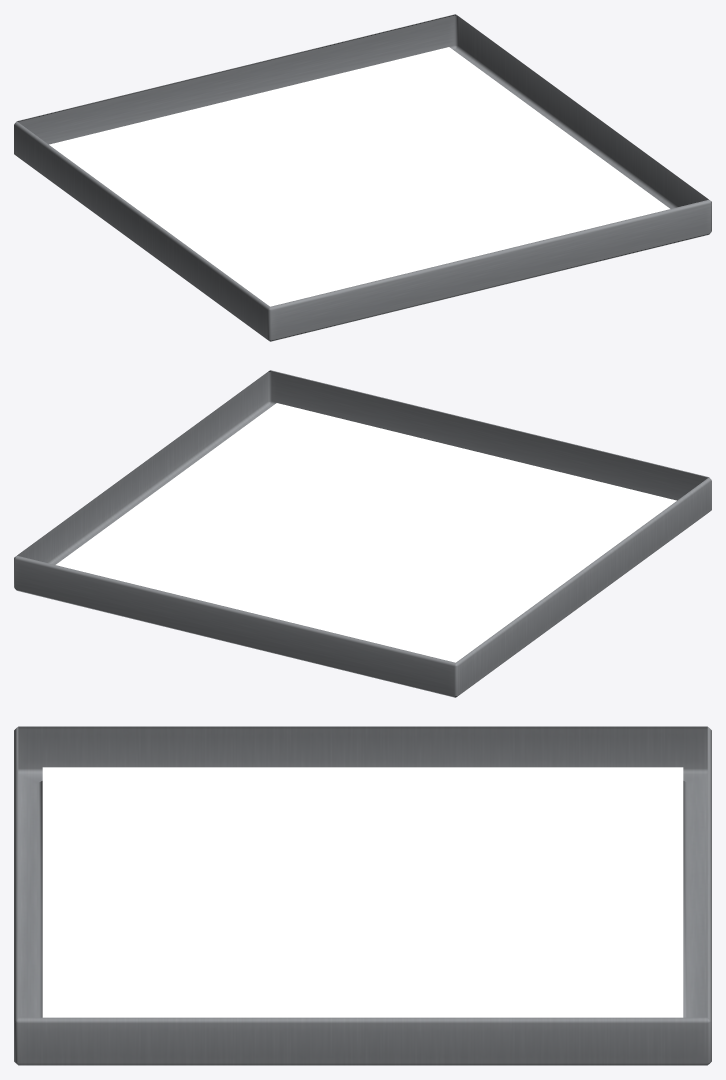
Rendered from CeilingLight.fbx.
The picture shows the model from 3 angles, top to bottom: view 1: azimuth 30°, elevation 25°; view 2: azimuth 150°, elevation 25°; view 3: azimuth 270°, elevation 25°; orthographic projection. The views are drawn at different scales.
Visible parts, largest first — view 1: ClLight; view 2: ClLight; view 3: ClLight.
Boxes of the visible parts, x1=… form: ClLight: x1=14, y1=14, x2=711, y2=341; ClLight: x1=14, y1=370, x2=711, y2=697; ClLight: x1=14, y1=726, x2=711, y2=1065.
Size of the model in its own units: 94.36 by 7.13 by 94.36.
